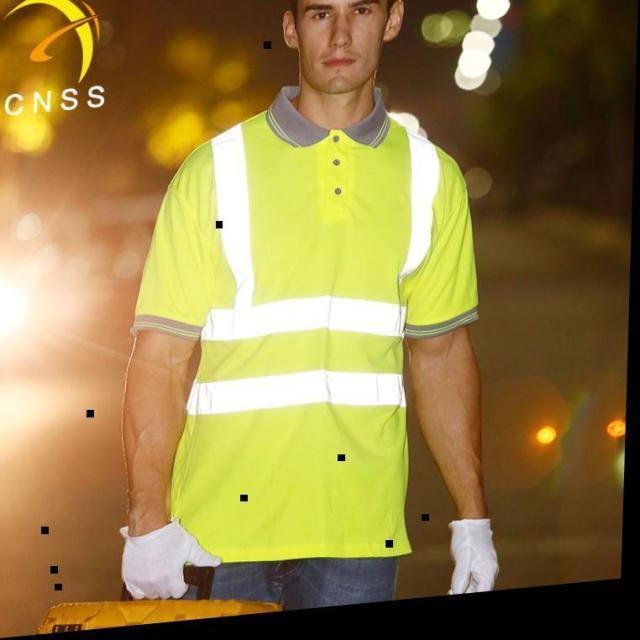safety_helmet: (131, 98, 471, 555)
